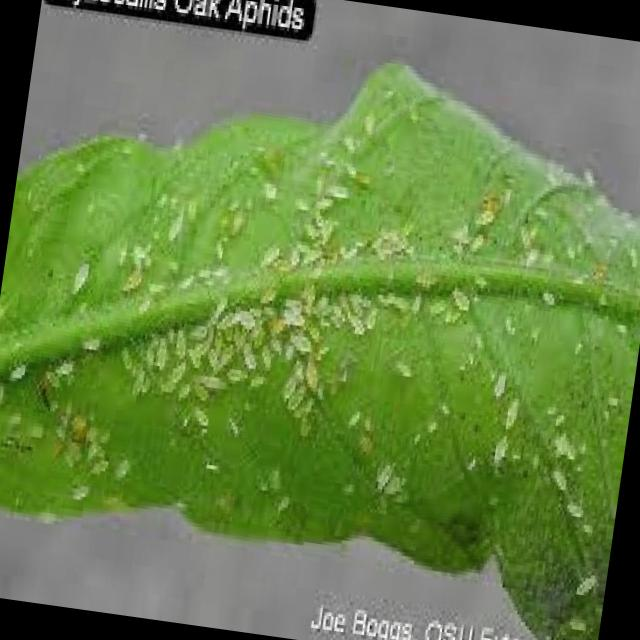aphid: (59, 248, 98, 304), (564, 554, 602, 604), (440, 272, 478, 318), (484, 423, 516, 472), (251, 232, 288, 274), (483, 360, 518, 404), (496, 386, 526, 435), (296, 351, 328, 396), (103, 448, 136, 490), (80, 448, 115, 487), (367, 449, 397, 494), (354, 98, 384, 143), (408, 257, 444, 293), (0, 348, 30, 389), (72, 322, 106, 358), (165, 318, 192, 363), (203, 285, 232, 326), (255, 169, 286, 207), (62, 473, 94, 509), (147, 326, 171, 374), (322, 170, 354, 206), (164, 347, 192, 388), (295, 235, 326, 272), (36, 364, 68, 399), (284, 321, 316, 356), (218, 354, 250, 389), (543, 456, 572, 494), (252, 334, 278, 376), (468, 198, 502, 230), (111, 336, 138, 376), (558, 490, 588, 525), (170, 259, 200, 294), (386, 349, 418, 381), (268, 484, 296, 520), (140, 268, 168, 304), (274, 365, 300, 403), (338, 399, 366, 434), (196, 365, 226, 396), (230, 299, 260, 330), (186, 398, 211, 434), (534, 278, 562, 310), (129, 288, 154, 323), (49, 351, 77, 382), (19, 414, 47, 445), (342, 308, 370, 339), (125, 362, 148, 399), (207, 229, 230, 266), (336, 233, 362, 264), (464, 222, 486, 256), (608, 310, 632, 341), (407, 282, 427, 316), (1, 401, 25, 428), (546, 403, 570, 427), (600, 384, 622, 409)
